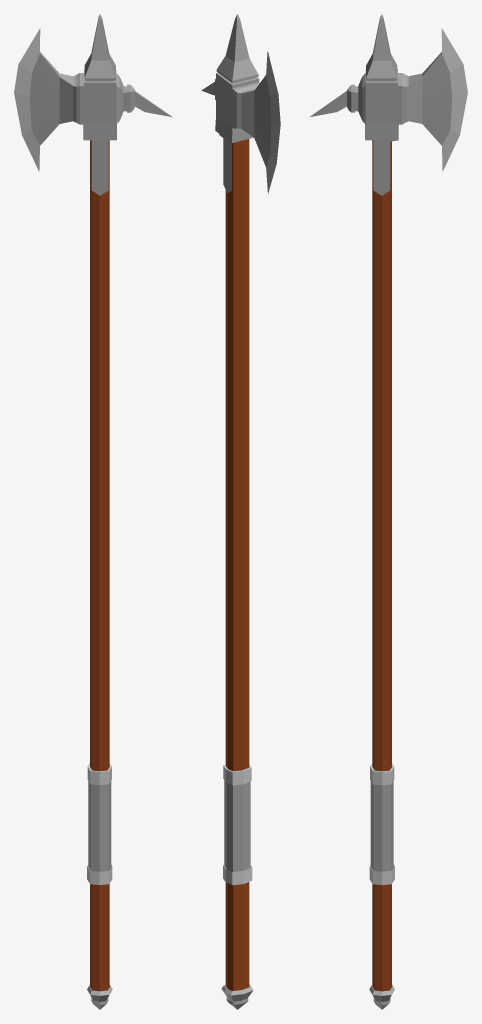
The model's file is Halberd.glb.
The picture shows the model from 3 angles, left to right: view 1: azimuth 90°, elevation 25°; view 2: azimuth 210°, elevation 25°; view 3: azimuth 270°, elevation 25°; orthographic projection.
Parts seen in each view (by area): view 1: Halberd; view 2: Halberd; view 3: Halberd.
Part boxes in pixels (bbox=[...]): Halberd: bbox=[14, 14, 171, 1009]; Halberd: bbox=[201, 14, 280, 1009]; Halberd: bbox=[310, 14, 467, 1009].
Size of the model in its own units: 724 by 24616 by 3561.
